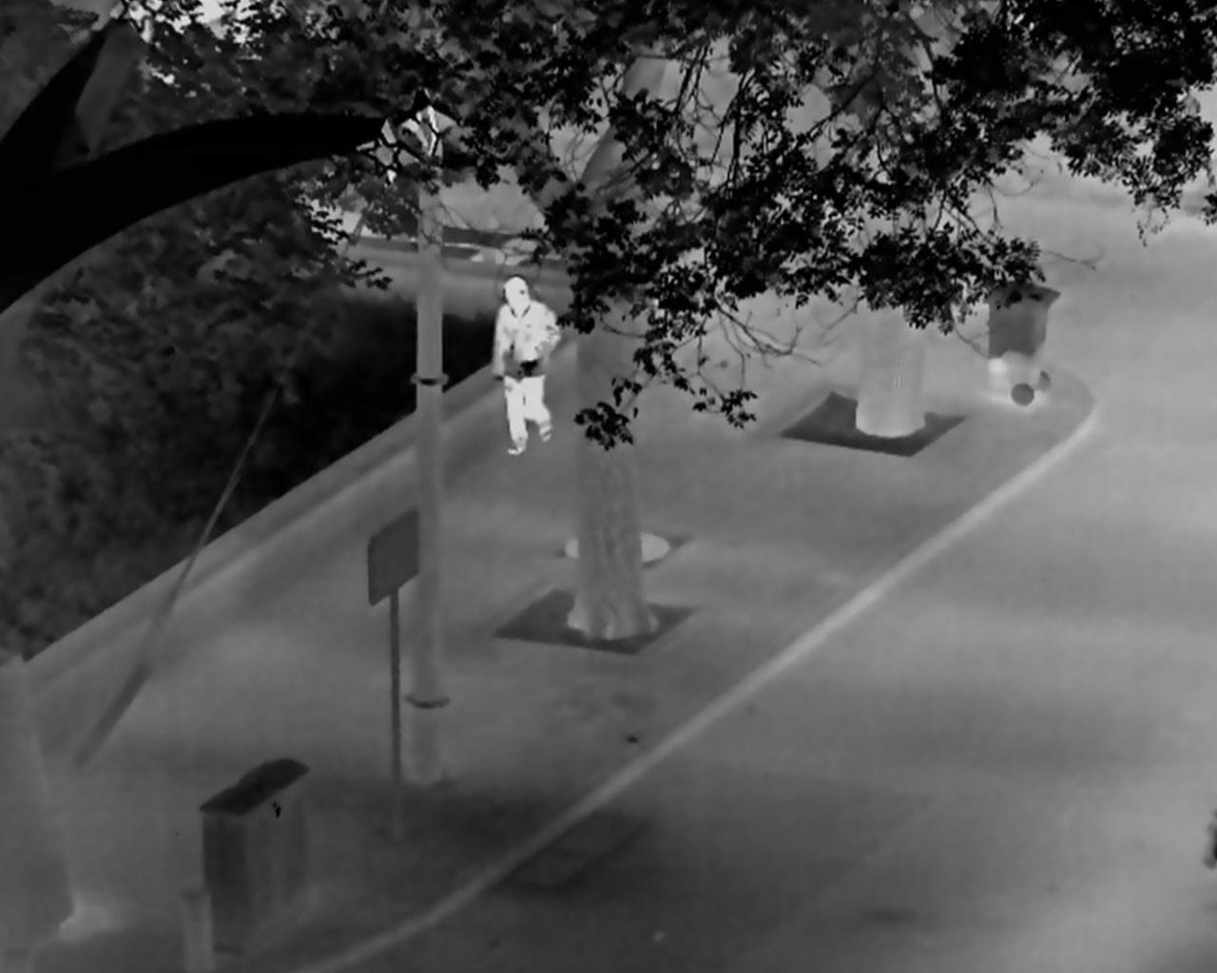person: (491, 273, 564, 456)
